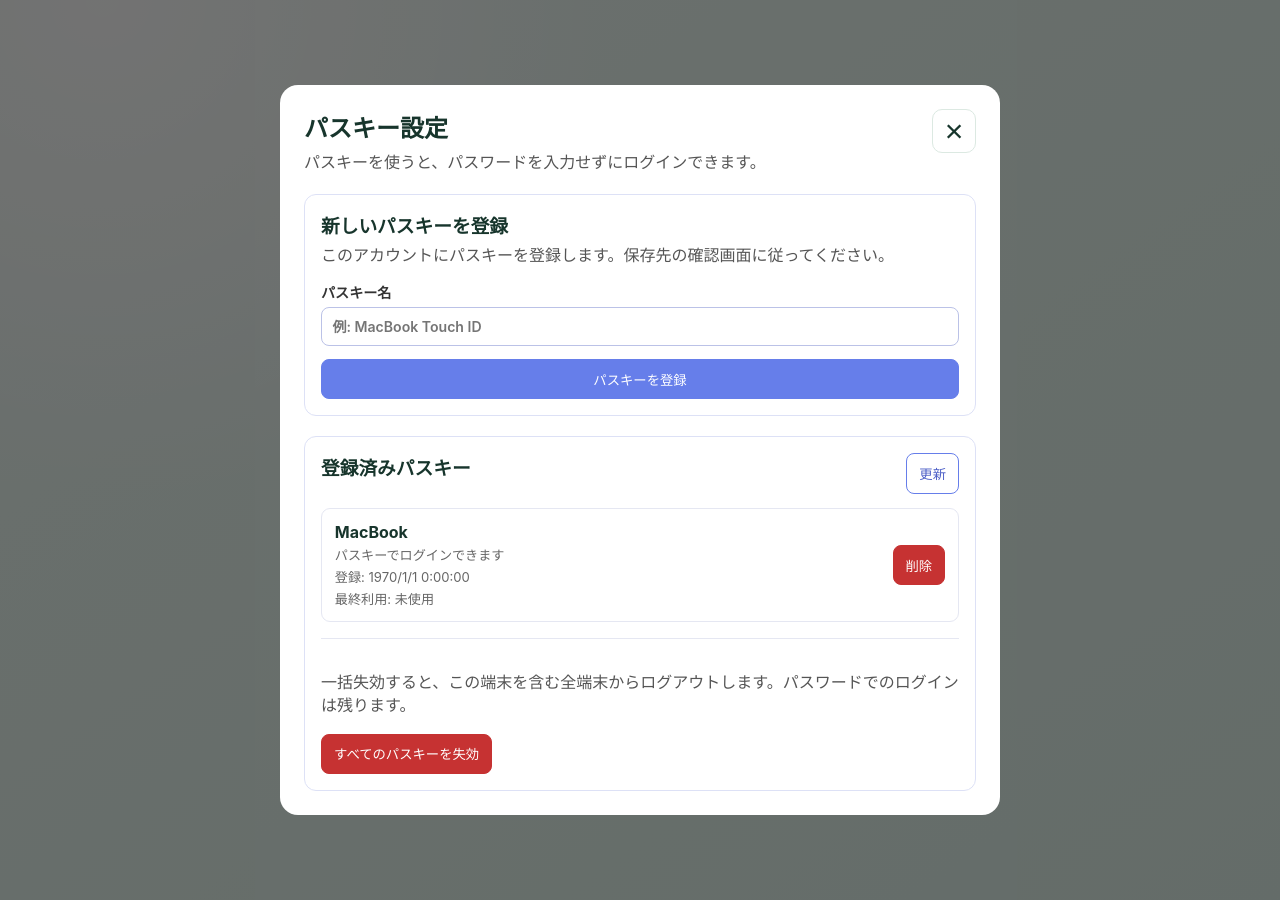
Test: PasskeySettingsModal › does not redirect when individual or bulk deletion fails
What coordinates should you click on to do the following:
click the button with class "danger" showing "削除"
I would click on:
 (919, 565)
Its box is [892, 545, 945, 585].
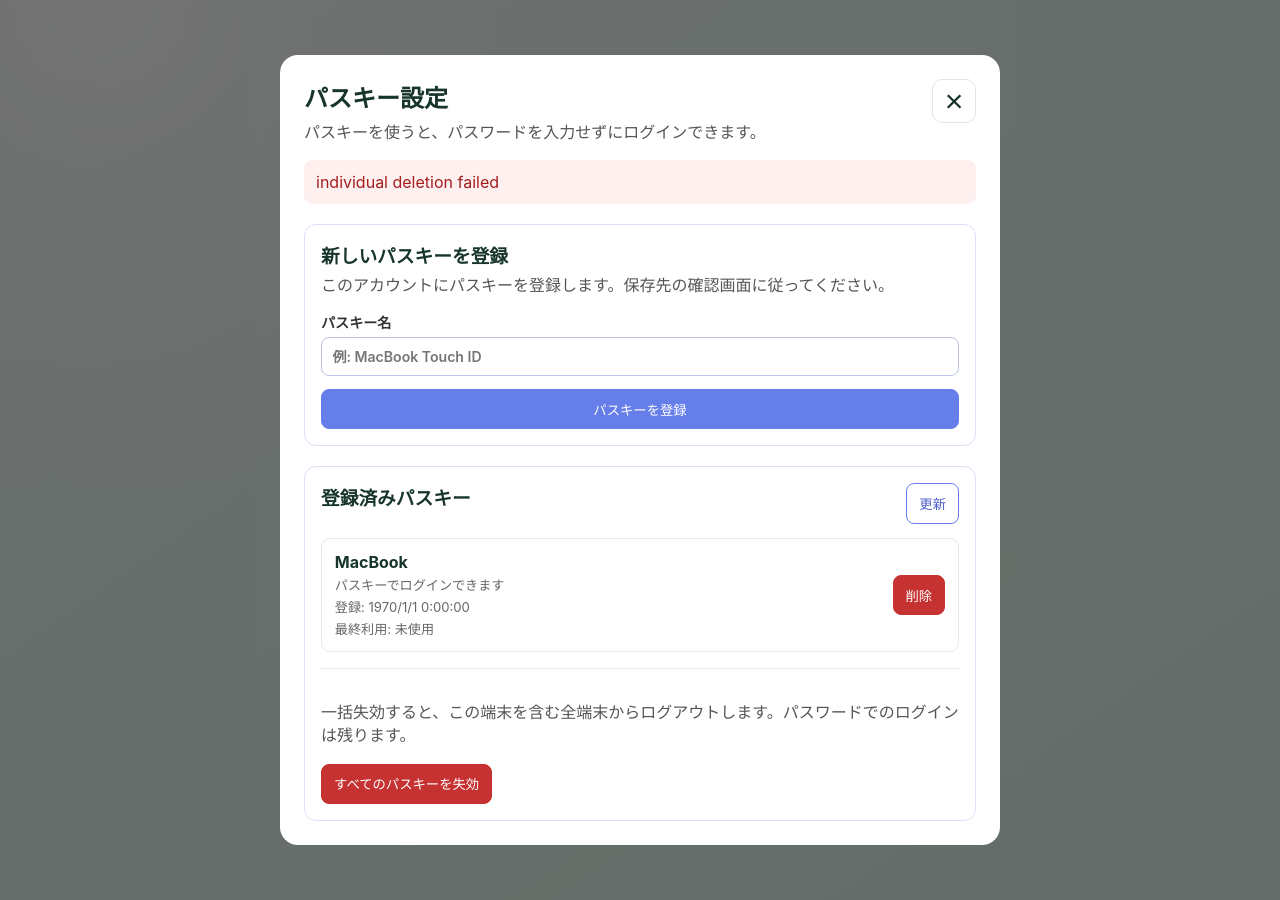
Expected: the message "individual deletion failed" is shown, [304, 160, 976, 204]
What coordinates should you click on to do the following:
click the button with class "danger" showing "すべてのパスキーを失効"
I would click on:
 (407, 784)
Its box is [321, 764, 492, 804].
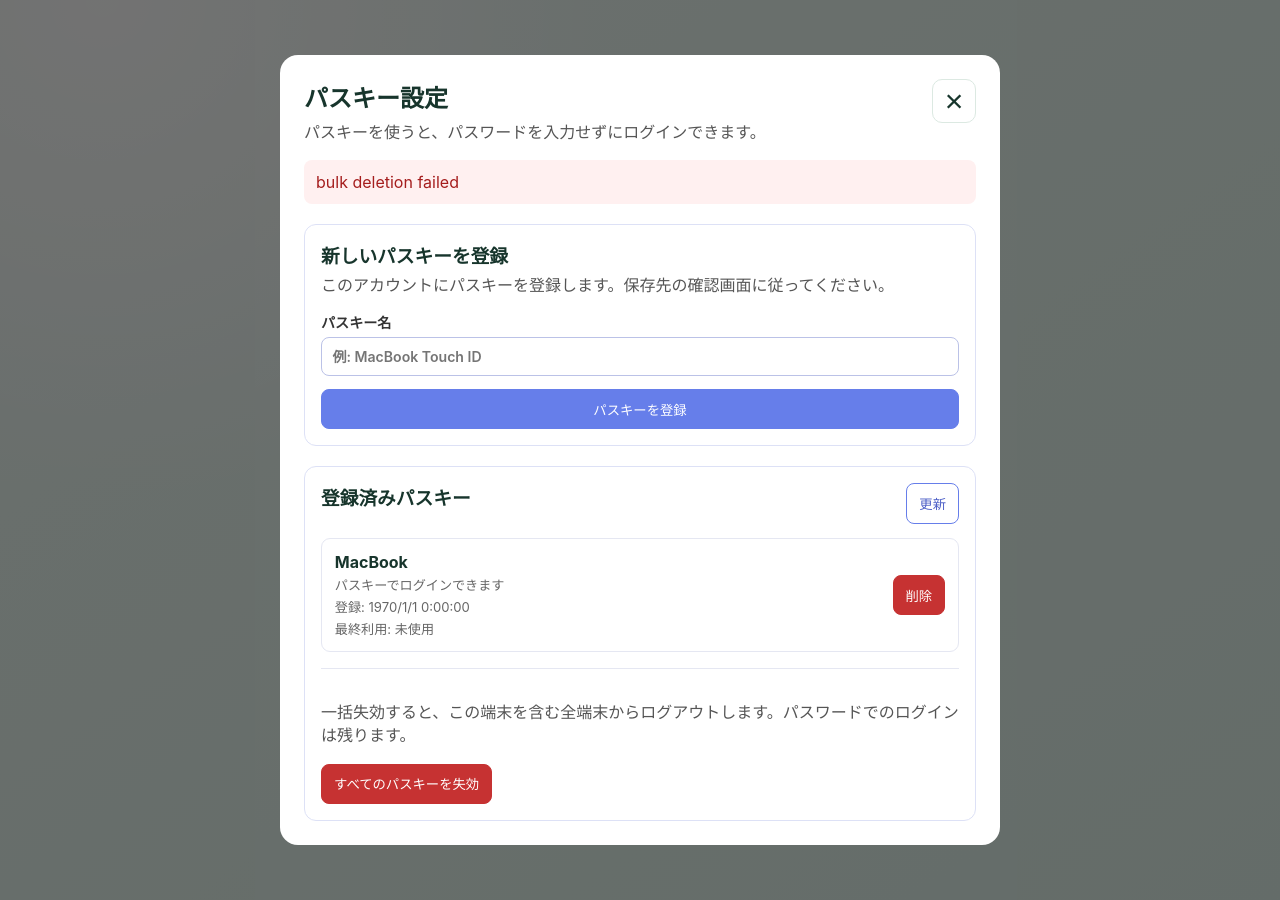
Expected: the message "bulk deletion failed" is shown, [304, 160, 976, 204]
